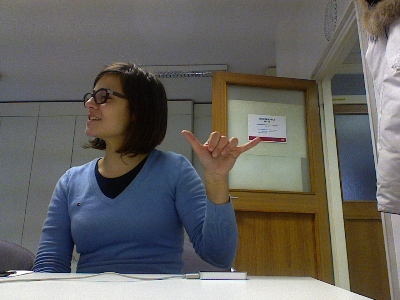六六六: (179, 128, 261, 175)
